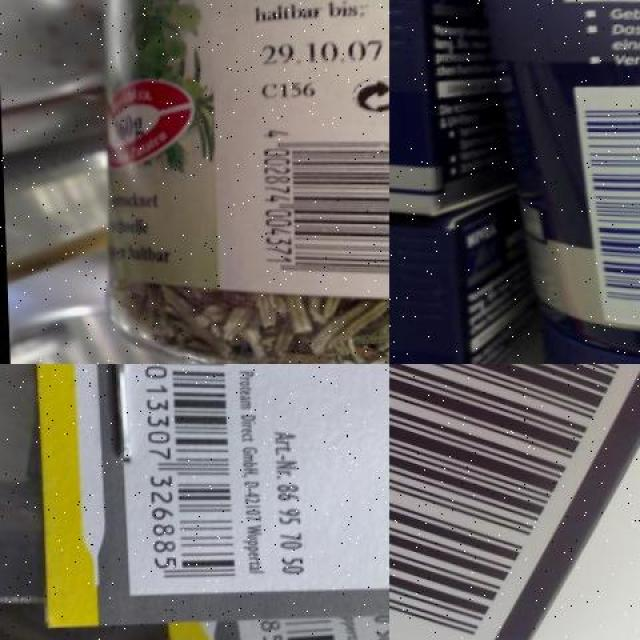Barcode: (389, 364, 640, 640), (236, 113, 389, 291), (132, 364, 241, 588), (574, 81, 640, 325)
